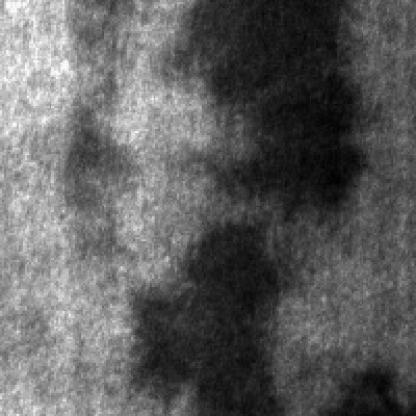patches: (192, 4, 368, 212), (141, 233, 285, 416), (329, 373, 416, 416)
